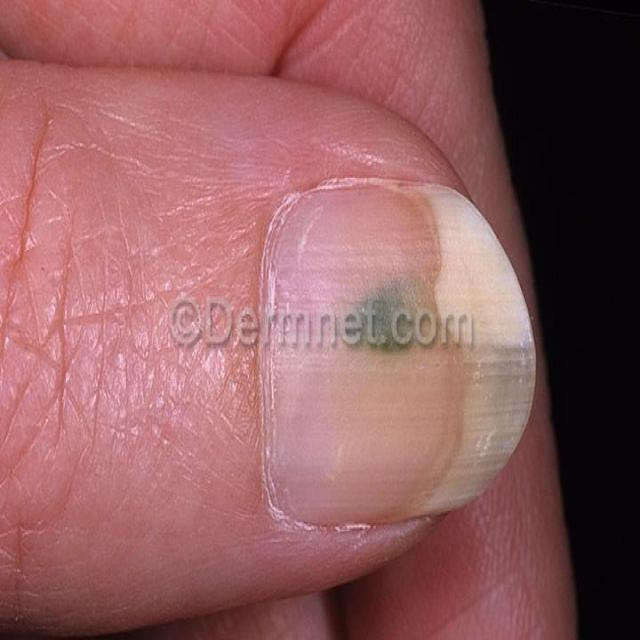Nail: (263, 177, 539, 524)
